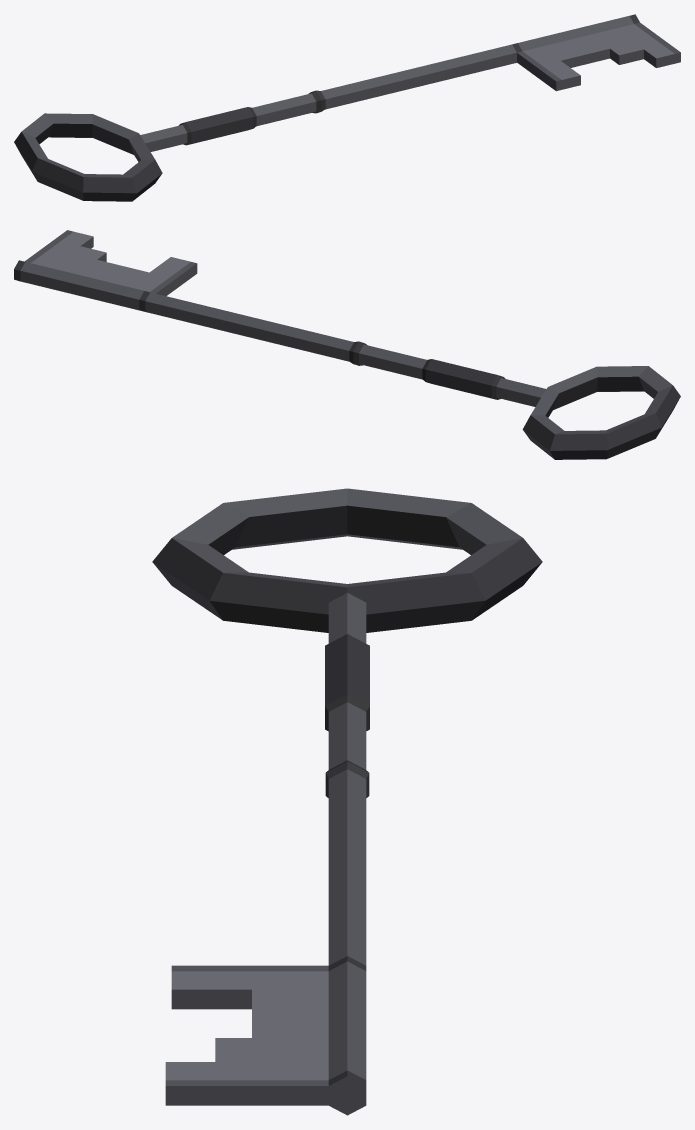
The model's file is Iron_Key_Pirates.glb.
The picture shows the model from 3 angles, top to bottom: view 1: azimuth 30°, elevation 25°; view 2: azimuth 150°, elevation 25°; view 3: azimuth 270°, elevation 25°; orthographic projection. The views are drawn at different scales.
Parts seen in each view (by area): view 1: PirateKey_Iron; view 2: PirateKey_Iron; view 3: PirateKey_Iron.
Part boxes in pixels (x1,y1,x2,y2): PirateKey_Iron: [14, 14, 680, 201]; PirateKey_Iron: [14, 230, 680, 459]; PirateKey_Iron: [152, 488, 542, 1115].
Size of what is drawn, in the model's own units: 0.6429 by 0.0244 by 0.1802.
1 material, 1 textured.
